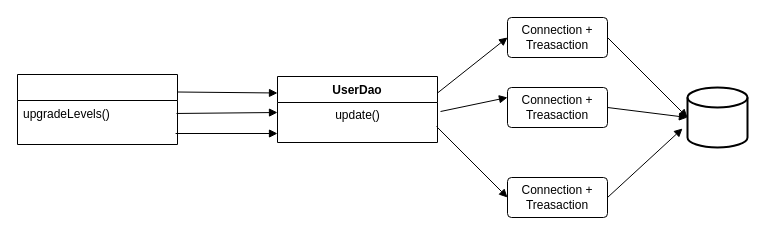
The diagram is 766 pixels wide and 235 high, and some of its shapes have lost their labels. Here are the shapes that lost their labels. From the top down, the box of each, then its label:
(16, 74, 178, 144): userService
(686, 86, 748, 148): DBMS
